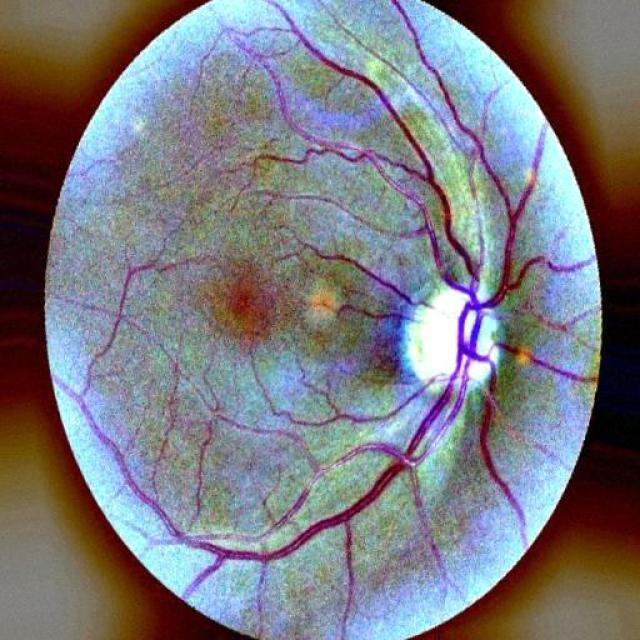Macula: (199, 254, 304, 351)
Nerves: (164, 34, 545, 576)
Optic Disk: (374, 250, 541, 419)
